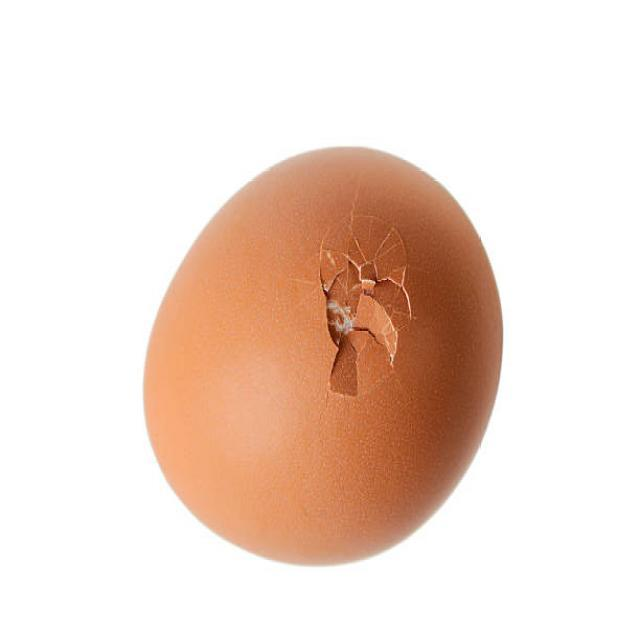biodegradable: (136, 133, 538, 592)
